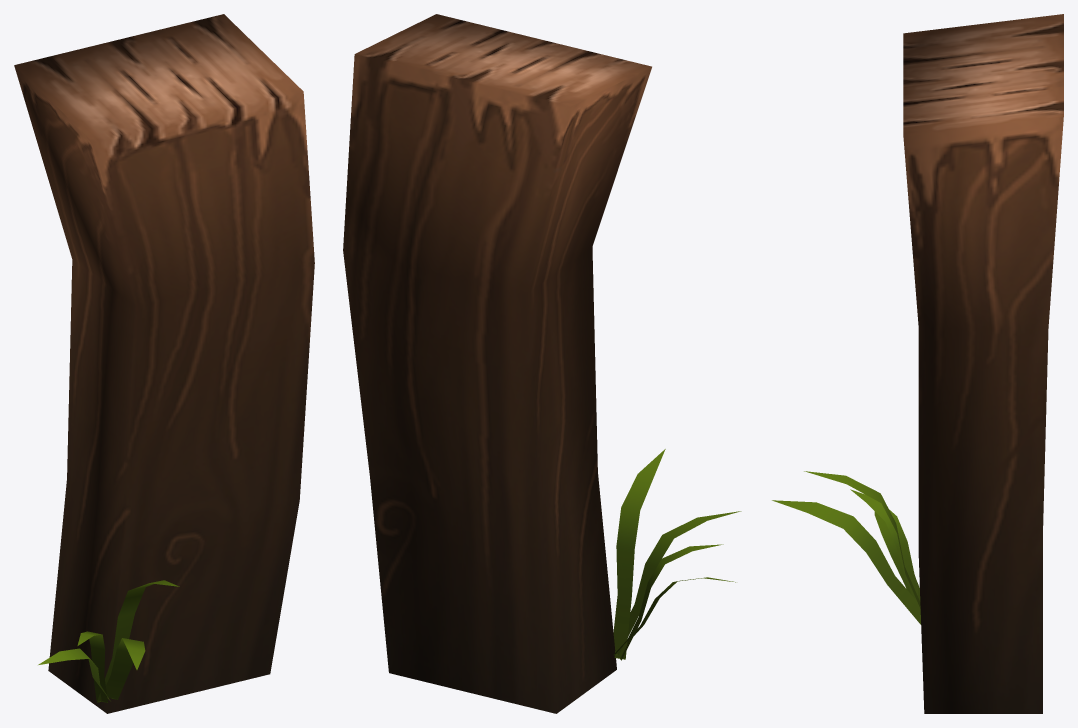
File: Tronco.fbx
3 views of the same model, side by side, from view 1: azimuth 30°, elevation 25°; view 2: azimuth 150°, elevation 25°; view 3: azimuth 270°, elevation 25° (orthographic). The views are drawn at different scales.
Visible parts, largest first — view 1: ENV_Fence_SingleHalfBrokenF_001; view 2: ENV_Fence_SingleHalfBrokenF_001; view 3: ENV_Fence_SingleHalfBrokenF_001.
Part boxes in pixels (<box>): ENV_Fence_SingleHalfBrokenF_001: <box>14,14,314,713</box>; ENV_Fence_SingleHalfBrokenF_001: <box>343,14,741,713</box>; ENV_Fence_SingleHalfBrokenF_001: <box>772,14,1063,713</box>.
Bounding box in the file's own units: 42.58 × 82.12 × 35.82.
